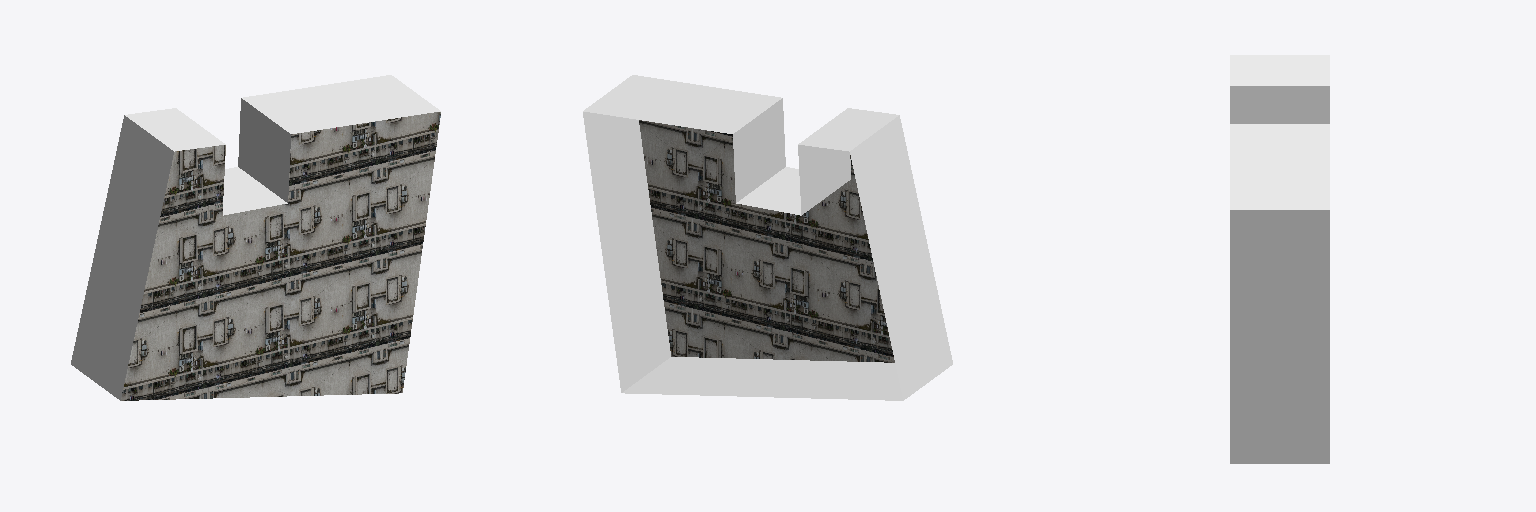
The picture shows the model from 3 angles: view 1: azimuth 30°, elevation 25°; view 2: azimuth 150°, elevation 25°; view 3: azimuth 270°, elevation 25°; orthographic projection.
Parts seen in each view (by area): view 1: Building; view 2: Building; view 3: Building.
Boxes of the visible parts, box(x1,y1,x2,y2) form: Building: box(71, 75, 440, 400); Building: box(583, 75, 952, 400); Building: box(1230, 55, 1329, 463).
Size of the model in its own units: 11.1 by 9.84 by 3.
Materials: 2 (1 with a texture image).